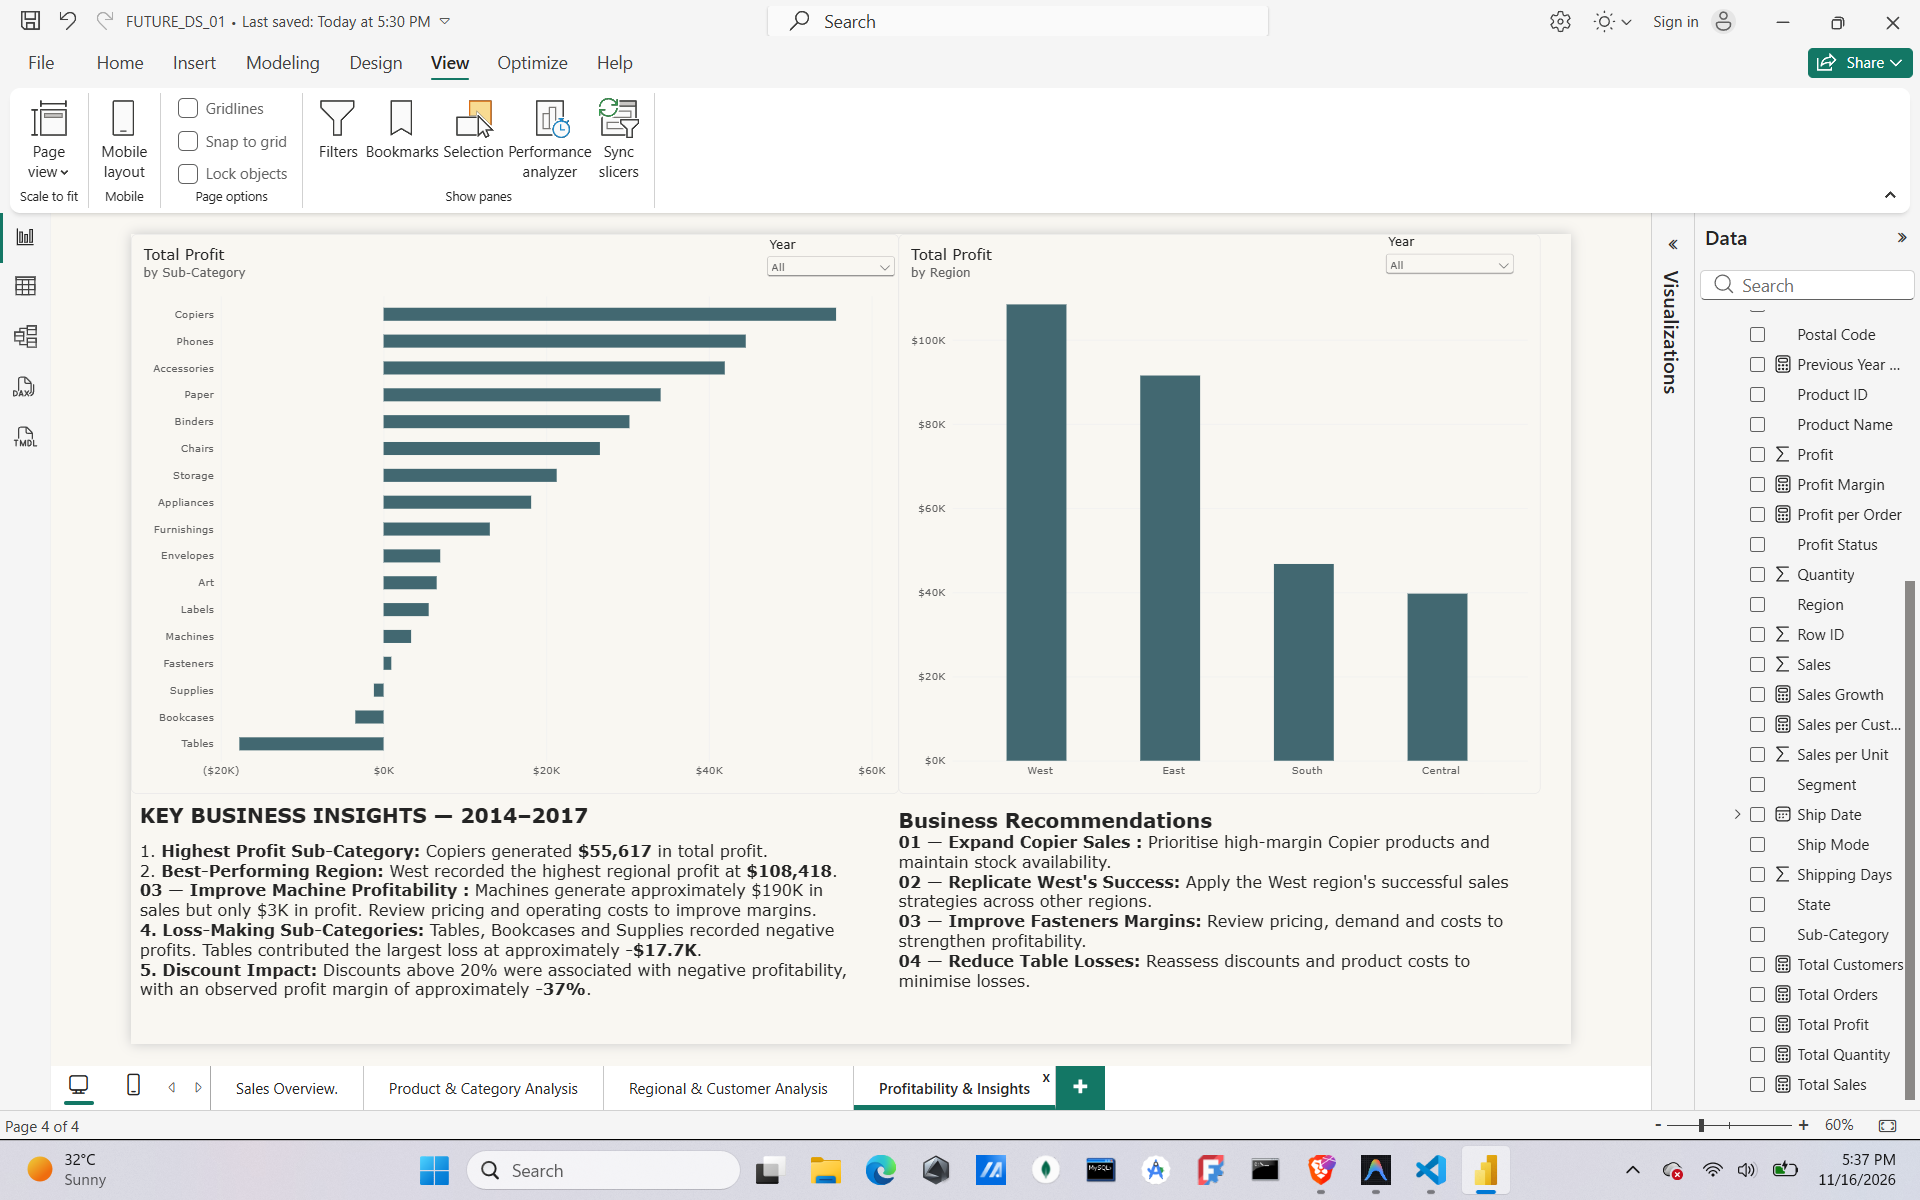

The dashboard page shown, as its layout file describes it:
{"tool":"powerbi","page":{"name":"Profitability & Insights","canvas":[1920,1080],"ordinal":3},"visuals":[{"type":"clusteredBarChart","fields":{"Category":["DATA.Sub-Category"],"Y":["DATA.Total Profit"]},"box":[0,0,1023.8,746.5],"z":0},{"type":"columnChart","fields":{"Category":["DATA.Region"],"Y":["DATA.Total Profit"]},"box":[1024,0,856.4,746.5],"z":1000},{"type":"textbox","box":[12,758,948,322],"z":2000},{"type":"slicer","fields":{"Values":["CALENDAR.Year"]},"box":[1668,0,180.1,81.1],"z":3000},{"type":"slicer","fields":{"Values":["CALENDAR.Year"]},"box":[844,4,180,70],"z":3001},{"type":"textbox","box":[1024,746,856,334],"z":3002}]}

Visuals, with their boxes on the page's 1920x1080 design canvas (x1, y1, x2, y2). These are canvas units, not pixel positions in the 1920x1200 screenshot, which may show the page scaled, cropped or inside an application window:
clusteredBarChart - DATA.Sub-Category x DATA.Total Profit: <region>0, 0, 1024, 746</region>
columnChart - DATA.Region x DATA.Total Profit: <region>1024, 0, 1880, 746</region>
textbox: <region>12, 758, 960, 1080</region>
slicer - CALENDAR.Year: <region>1668, 0, 1848, 81</region>
slicer - CALENDAR.Year: <region>844, 4, 1024, 74</region>
textbox: <region>1024, 746, 1880, 1080</region>
